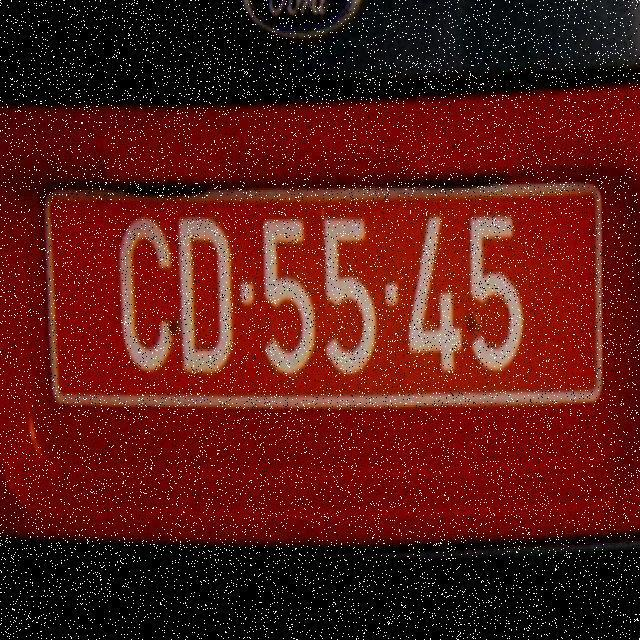LicensePlate: (31, 148, 613, 434)
